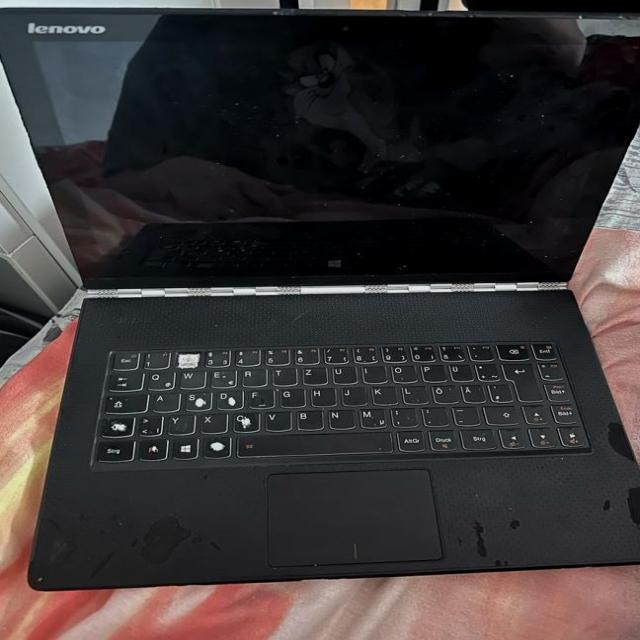0: (407, 342, 434, 361)
1: (140, 350, 168, 368)
3: (201, 347, 228, 366)
4: (231, 347, 258, 365)
5: (261, 346, 287, 364)
6: (290, 345, 317, 363)
7: (321, 344, 348, 363)
8: (350, 344, 376, 362)
9: (377, 343, 406, 361)
a: (148, 390, 177, 410)
accent: (465, 342, 493, 360)
ae: (459, 383, 484, 401)
alt-left: (198, 434, 229, 456)
altgr-right: (393, 428, 423, 450)
b: (292, 408, 321, 428)
c: (228, 409, 258, 430)
comma: (387, 405, 415, 426)
d: (212, 388, 240, 408)
del: (495, 342, 529, 360)
e: (206, 367, 234, 386)
enter: (499, 361, 540, 400)
f: (244, 387, 272, 407)
g: (276, 386, 302, 405)
h: (307, 385, 334, 405)
hash: (485, 381, 511, 401)
i: (359, 364, 384, 382)
j: (338, 385, 364, 405)
k: (368, 384, 395, 403)
keyboard: (85, 339, 596, 467)
l: (399, 383, 427, 403)
less: (133, 412, 160, 434)
m: (357, 406, 383, 427)
minus: (448, 404, 477, 424)
n: (325, 408, 353, 428)
o: (388, 362, 414, 381)
oe: (430, 382, 457, 402)
p: (418, 362, 444, 381)
plus: (473, 361, 498, 380)
point: (418, 405, 446, 425)
q: (143, 369, 173, 388)
r: (237, 366, 265, 384)
s: (181, 389, 209, 409)
shift-left: (96, 414, 132, 436)
shift-lock: (100, 391, 145, 412)
shift-right: (481, 403, 519, 423)
space: (233, 430, 390, 454)
ss: (437, 342, 463, 360)
strg-left: (92, 437, 132, 460)
strg-right: (457, 426, 495, 448)
t: (269, 365, 294, 384)
tab: (104, 370, 140, 389)
u: (328, 364, 354, 382)
ue: (447, 361, 471, 380)
v: (262, 409, 288, 429)
w: (176, 368, 202, 387)
x: (197, 410, 224, 432)
y: (163, 411, 193, 433)
z: (299, 364, 325, 383)
